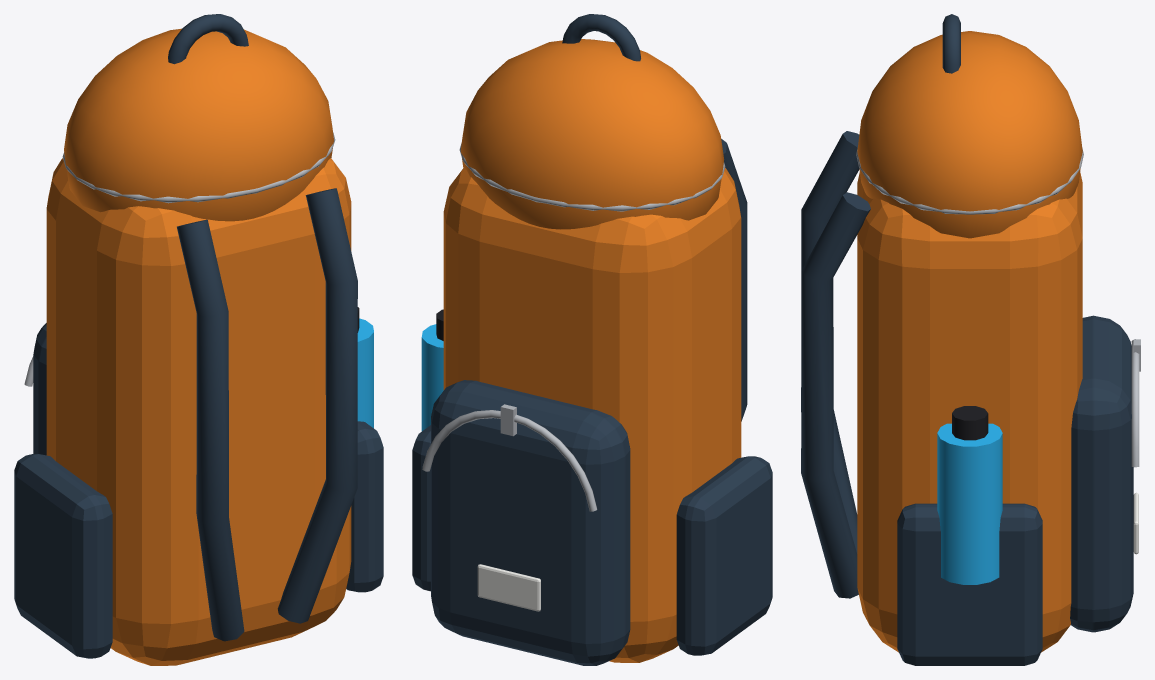
The model's file is backpack.fbx.
3 views of the same model, side by side, from view 1: azimuth 30°, elevation 25°; view 2: azimuth 150°, elevation 25°; view 3: azimuth 270°, elevation 25° (orthographic). The views are drawn at different scales.
Parts seen in each view (by area): view 1: Backpack; view 2: Backpack; view 3: Backpack.
Boxes of the visible parts, <box> form: Backpack: <box>14,14,383,665</box>; Backpack: <box>412,14,772,665</box>; Backpack: <box>801,14,1140,665</box>.
Bounding box in the file's own units: 1.01 × 1.85 × 0.9347.
